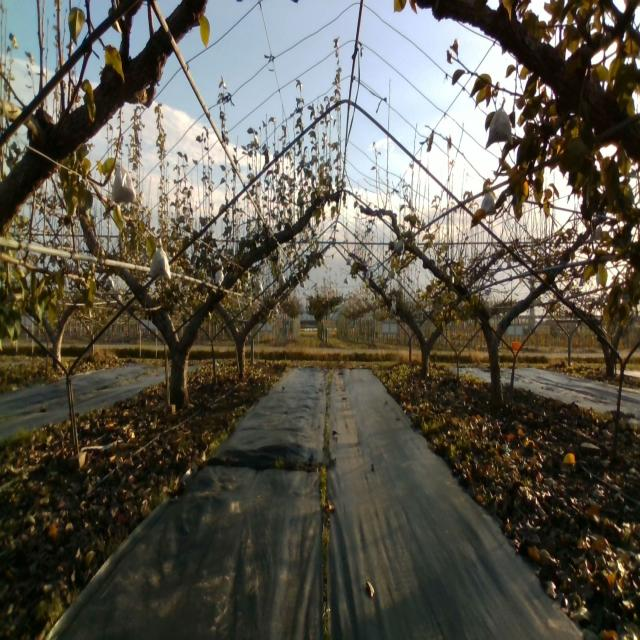pearbags: (485, 98, 514, 150), (110, 164, 136, 208), (148, 237, 170, 280), (479, 193, 496, 216)
